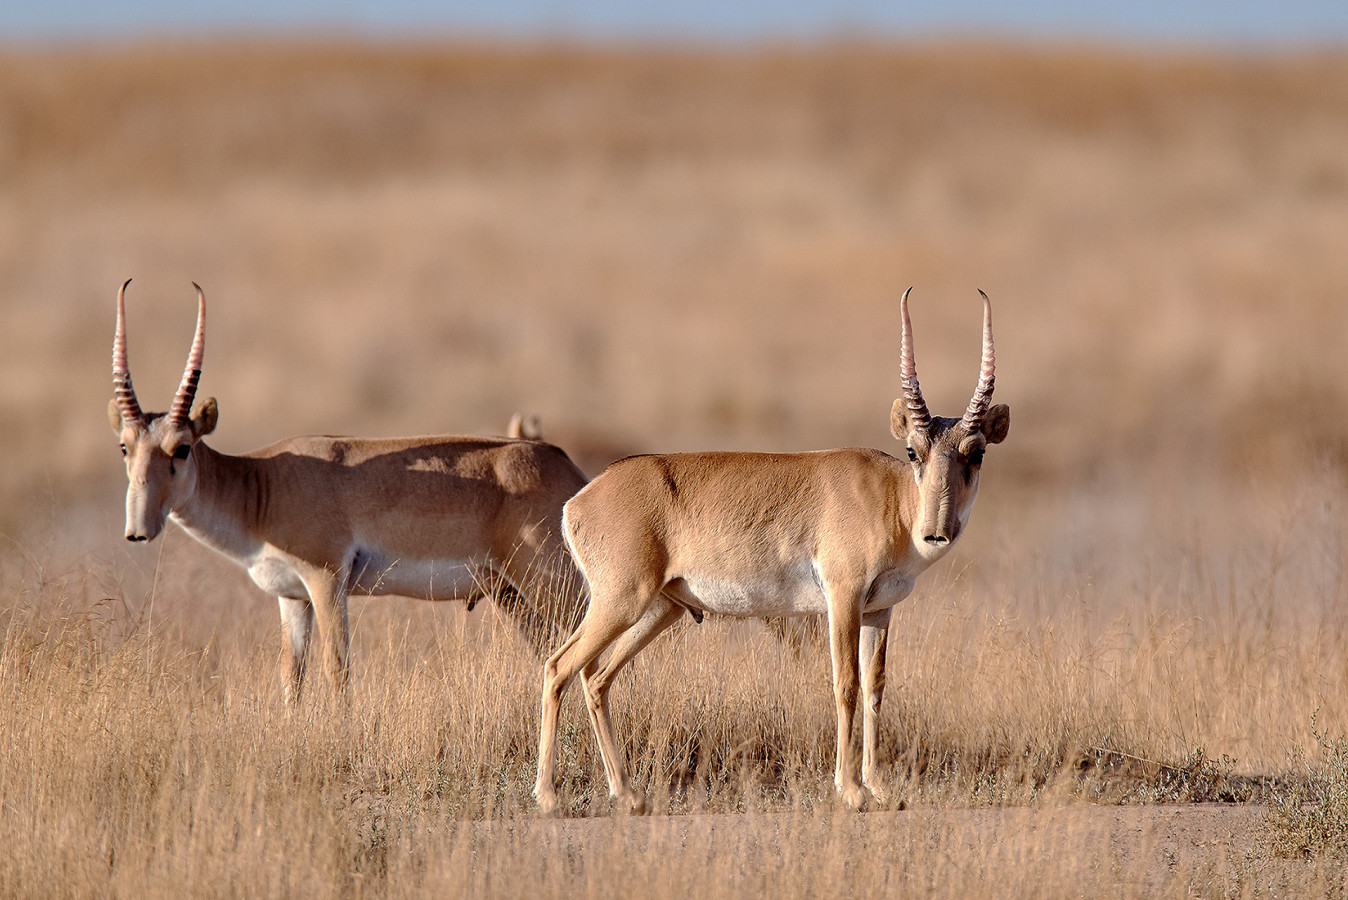saiga: (547, 288, 1013, 819), (104, 276, 600, 741)
